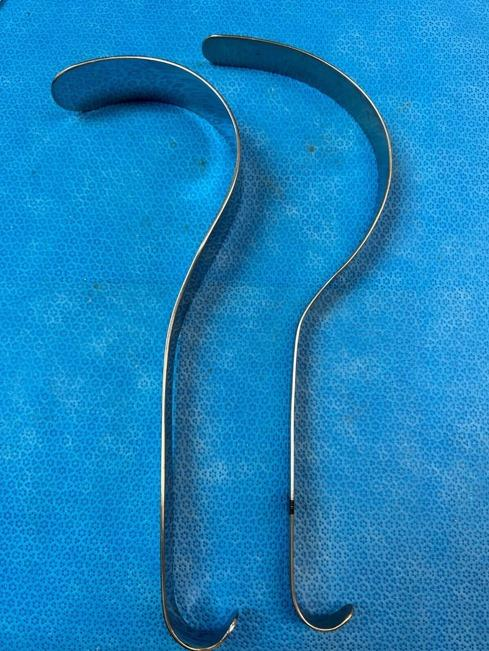Deaver Retractor: (45, 51, 251, 651), (201, 25, 400, 635)
